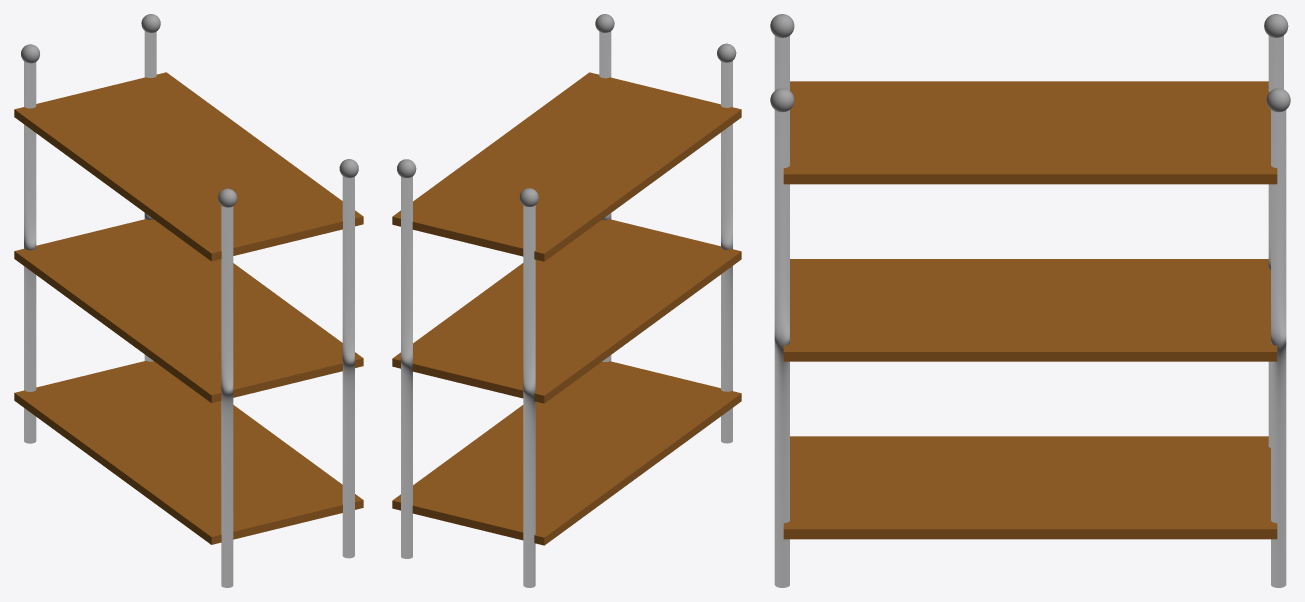
The model's file is Rack.fbx.
3 renders of one model, left to right at view 1: azimuth 30°, elevation 25°; view 2: azimuth 150°, elevation 25°; view 3: azimuth 270°, elevation 25°, orthographic. The views are drawn at different scales.
Parts seen in each view (by area): view 1: Cube; view 2: Cube; view 3: Cube.
Part boxes in pixels (x1=…): Cube: x1=14, y1=14, x2=363, y2=587; Cube: x1=392, y1=14, x2=741, y2=587; Cube: x1=770, y1=14, x2=1290, y2=587.
Size of the model in its own units: 200 by 497 by 473.
